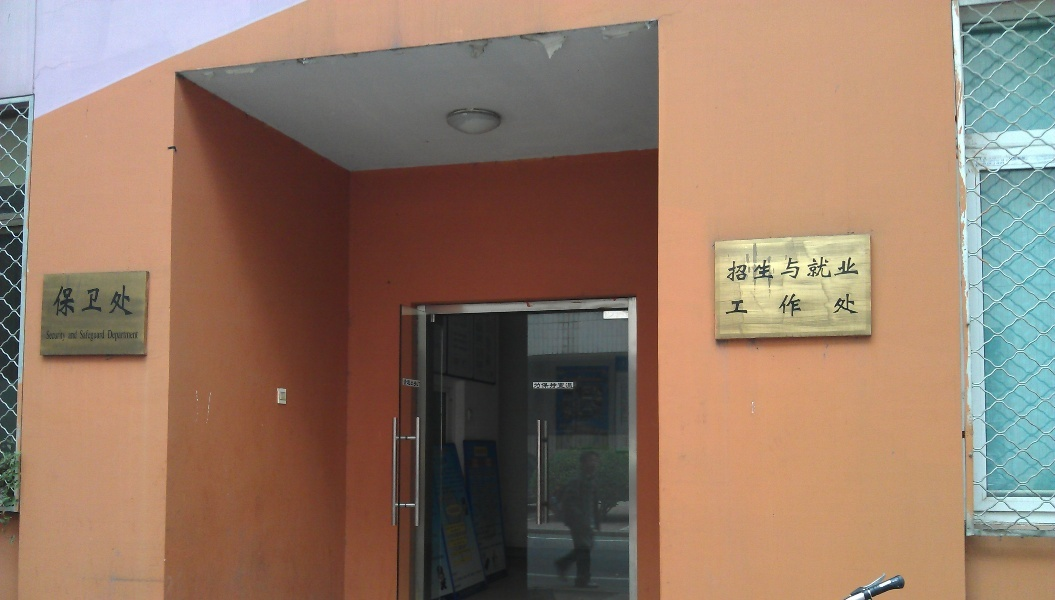text: (65, 285, 80, 317), (81, 285, 96, 317), (97, 285, 112, 317), (113, 285, 128, 317), (737, 292, 752, 320), (753, 292, 768, 320), (769, 292, 784, 320), (785, 292, 800, 320), (801, 292, 816, 320), (817, 292, 832, 320), (833, 292, 848, 320), (737, 256, 752, 283), (753, 256, 768, 283), (769, 256, 784, 283), (785, 256, 800, 283), (801, 256, 816, 283), (817, 256, 832, 283), (833, 256, 848, 283), (724, 292, 736, 320), (849, 256, 861, 283), (54, 285, 64, 317), (849, 292, 859, 320), (726, 256, 736, 283), (49, 329, 64, 342), (81, 330, 96, 342), (113, 330, 128, 342), (129, 285, 134, 317), (129, 330, 139, 342), (403, 379, 416, 388), (69, 331, 80, 340), (97, 330, 105, 342), (545, 383, 560, 389), (561, 383, 574, 389), (533, 383, 544, 389), (108, 330, 112, 342), (417, 379, 421, 388), (46, 329, 48, 342), (65, 329, 66, 342)
